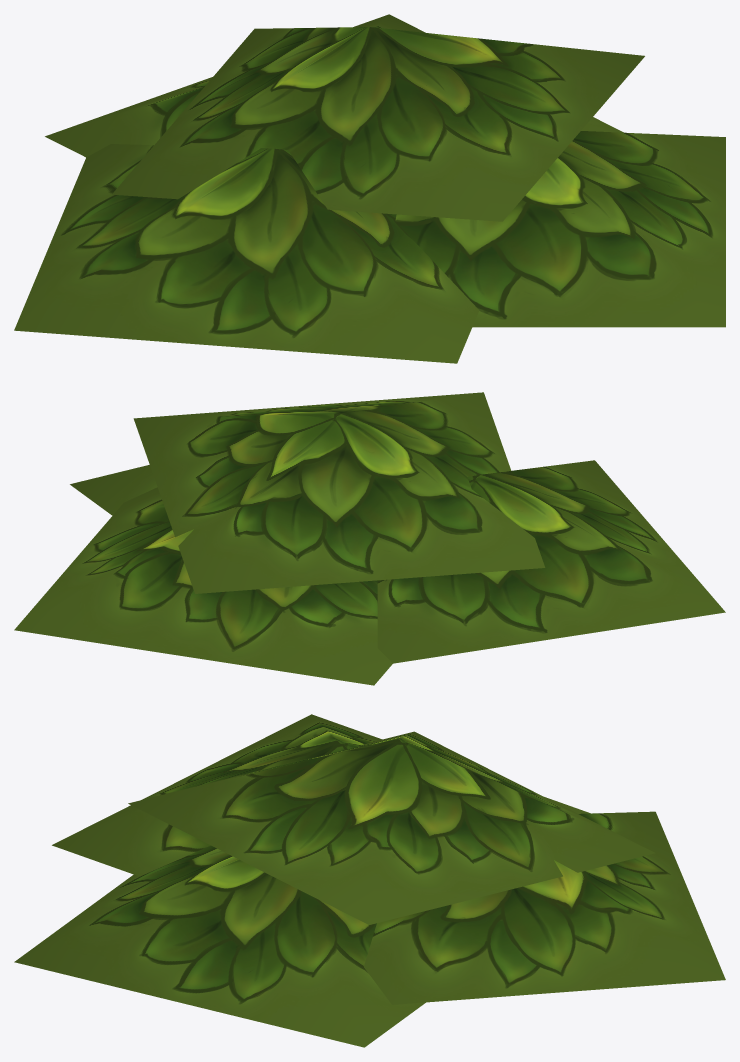
The model's file is Bush_1.FBX.
3 views of the same model, one above another, from view 1: azimuth 30°, elevation 25°; view 2: azimuth 150°, elevation 25°; view 3: azimuth 270°, elevation 25° (orthographic). The views are drawn at different scales.
Visible parts, largest first — view 1: Bush_1; view 2: Bush_1; view 3: Bush_1.
Boxes of the visible parts, left/top/right/bottom form: Bush_1: left=14, top=14, right=725, bottom=363; Bush_1: left=14, top=392, right=725, bottom=685; Bush_1: left=14, top=714, right=725, bottom=1047.
Size of what is drawn, in the model's own units: 302 by 279 by 69.52.
